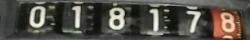digits: (28, 5, 46, 27), (107, 7, 125, 29), (186, 10, 201, 32), (220, 12, 235, 32), (71, 5, 81, 27), (149, 8, 159, 30)
